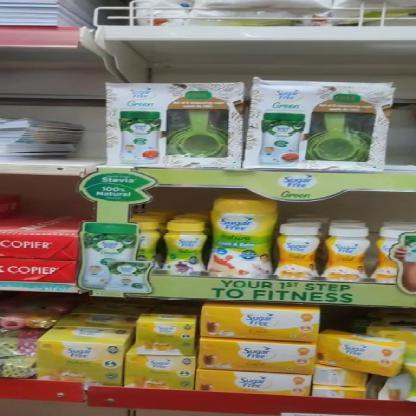SUGAR FREE GOLD POWDER 100GM: (321, 223, 369, 281), (275, 227, 317, 279)
SUGAR FREE NATURA DIET SUGAR 80GM: (206, 199, 274, 277)
SUGAR FREE NATURA SACHET 50: (39, 340, 122, 382), (123, 354, 197, 388), (138, 316, 197, 354)
SUGAR FREE NATURA_ POWDER_CONC_100G: (164, 218, 206, 274)
